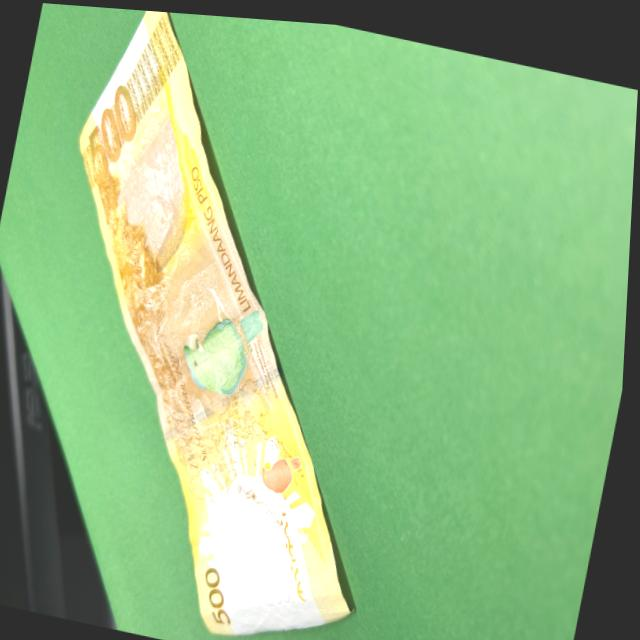security_thread: (163, 339, 278, 448)
value: (80, 69, 147, 191)
value_watermark: (261, 575, 299, 610)
